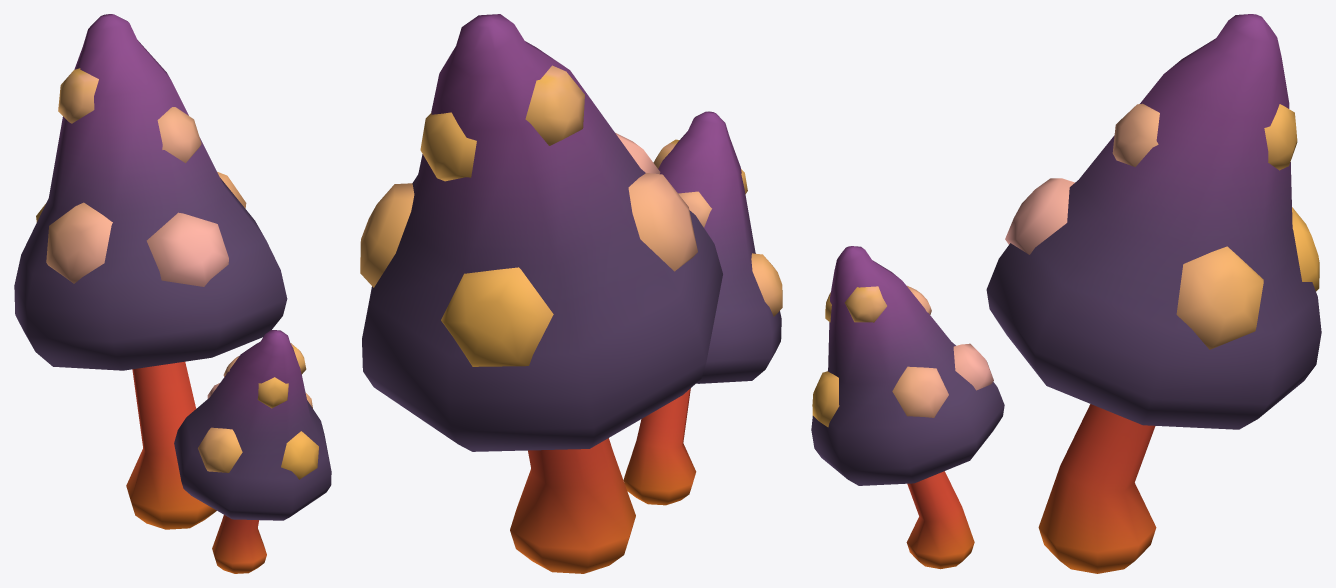
Rendered from mushrooms7.fbx.
3 renders of one model, left to right at view 1: azimuth 30°, elevation 25°; view 2: azimuth 150°, elevation 25°; view 3: azimuth 270°, elevation 25°, orthographic. The views are drawn at different scales.
Parts seen in each view (by area): view 1: mushrooms7; view 2: mushrooms7; view 3: mushrooms7.
Part boxes in pixels (left/top/right/bottom): mushrooms7: left=14, top=14, right=331, bottom=573; mushrooms7: left=360, top=14, right=782, bottom=573; mushrooms7: left=811, top=14, right=1321, bottom=573.
Size of the model in its own units: 332 by 589 by 499.
Materials: 1 (1 with a texture image).
